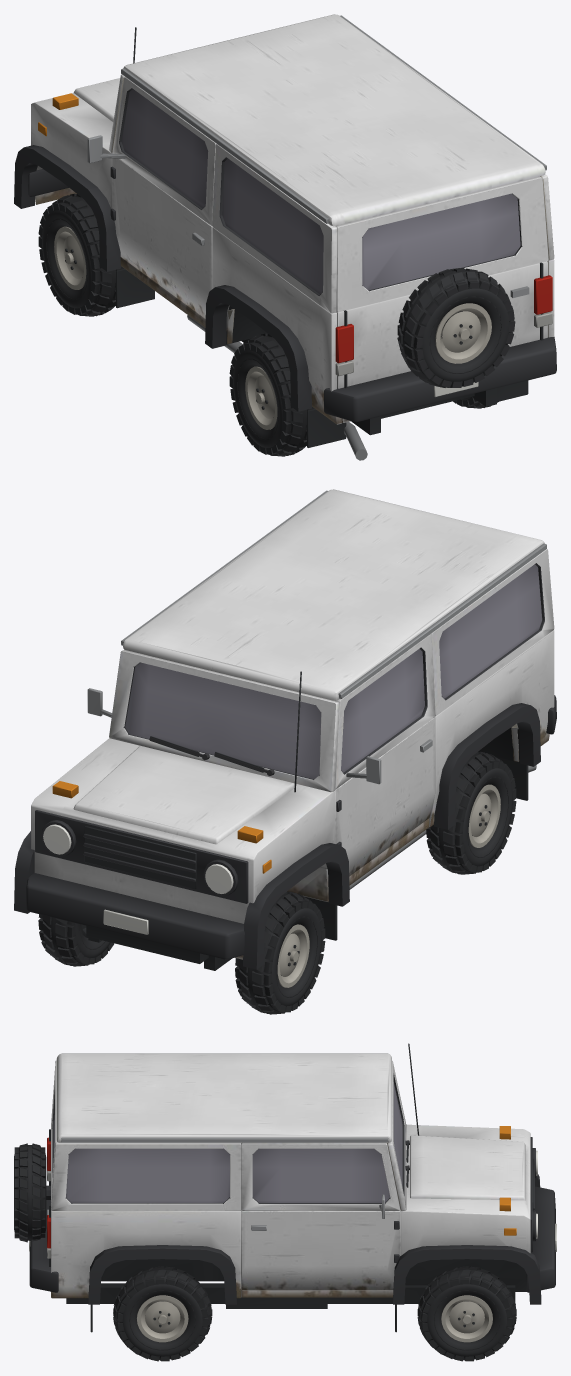
Rendered from gelande.m.glb.
The picture shows the model from 3 angles, top to bottom: view 1: azimuth 30°, elevation 25°; view 2: azimuth 150°, elevation 25°; view 3: azimuth 270°, elevation 25°; orthographic projection. The views are drawn at different scales.
Parts seen in each view (by area): view 1: body, door_FL, wheel_FL, wheel_RL; view 2: body, door_FL, wheel_FL, wheel_RL, wheel_FR; view 3: body, door_FR, wheel_RR, wheel_FR.
Part boxes in pixels (bbox=[...]): body: bbox=[14, 14, 556, 460]; door_FL: bbox=[87, 77, 216, 318]; wheel_FL: bbox=[38, 193, 123, 316]; wheel_RL: bbox=[229, 333, 314, 456]; body: bbox=[14, 489, 556, 970]; door_FL: bbox=[334, 634, 434, 876]; wheel_FL: bbox=[235, 891, 325, 1014]; wheel_RL: bbox=[426, 751, 516, 874]; wheel_FR: bbox=[38, 914, 114, 966]; body: bbox=[14, 1043, 556, 1332]; door_FR: bbox=[241, 1142, 400, 1290]; wheel_RR: bbox=[113, 1266, 212, 1361]; wheel_FR: bbox=[417, 1266, 516, 1361].
Bounding box in the file's own units: 2.12 × 2.13 × 4.28.
16 materials, 1 textured.
